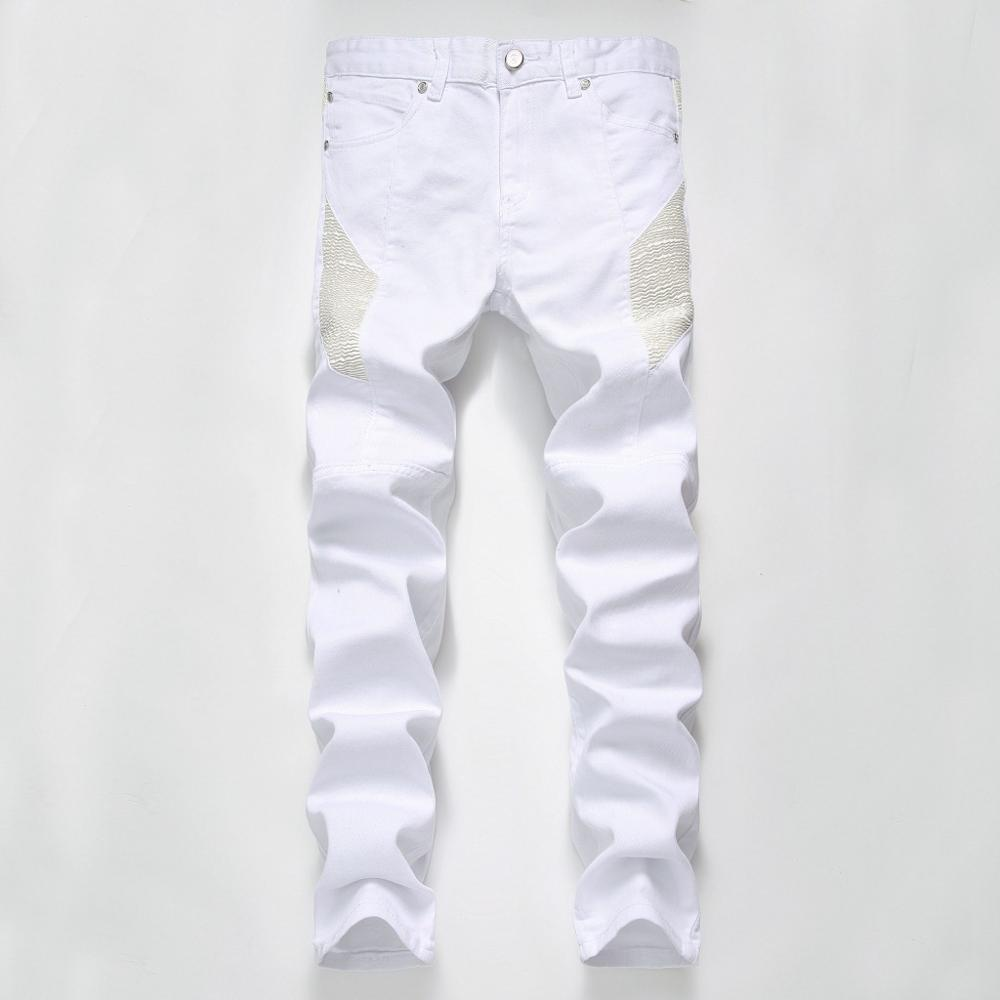jeans: (267, 21, 728, 1000)
